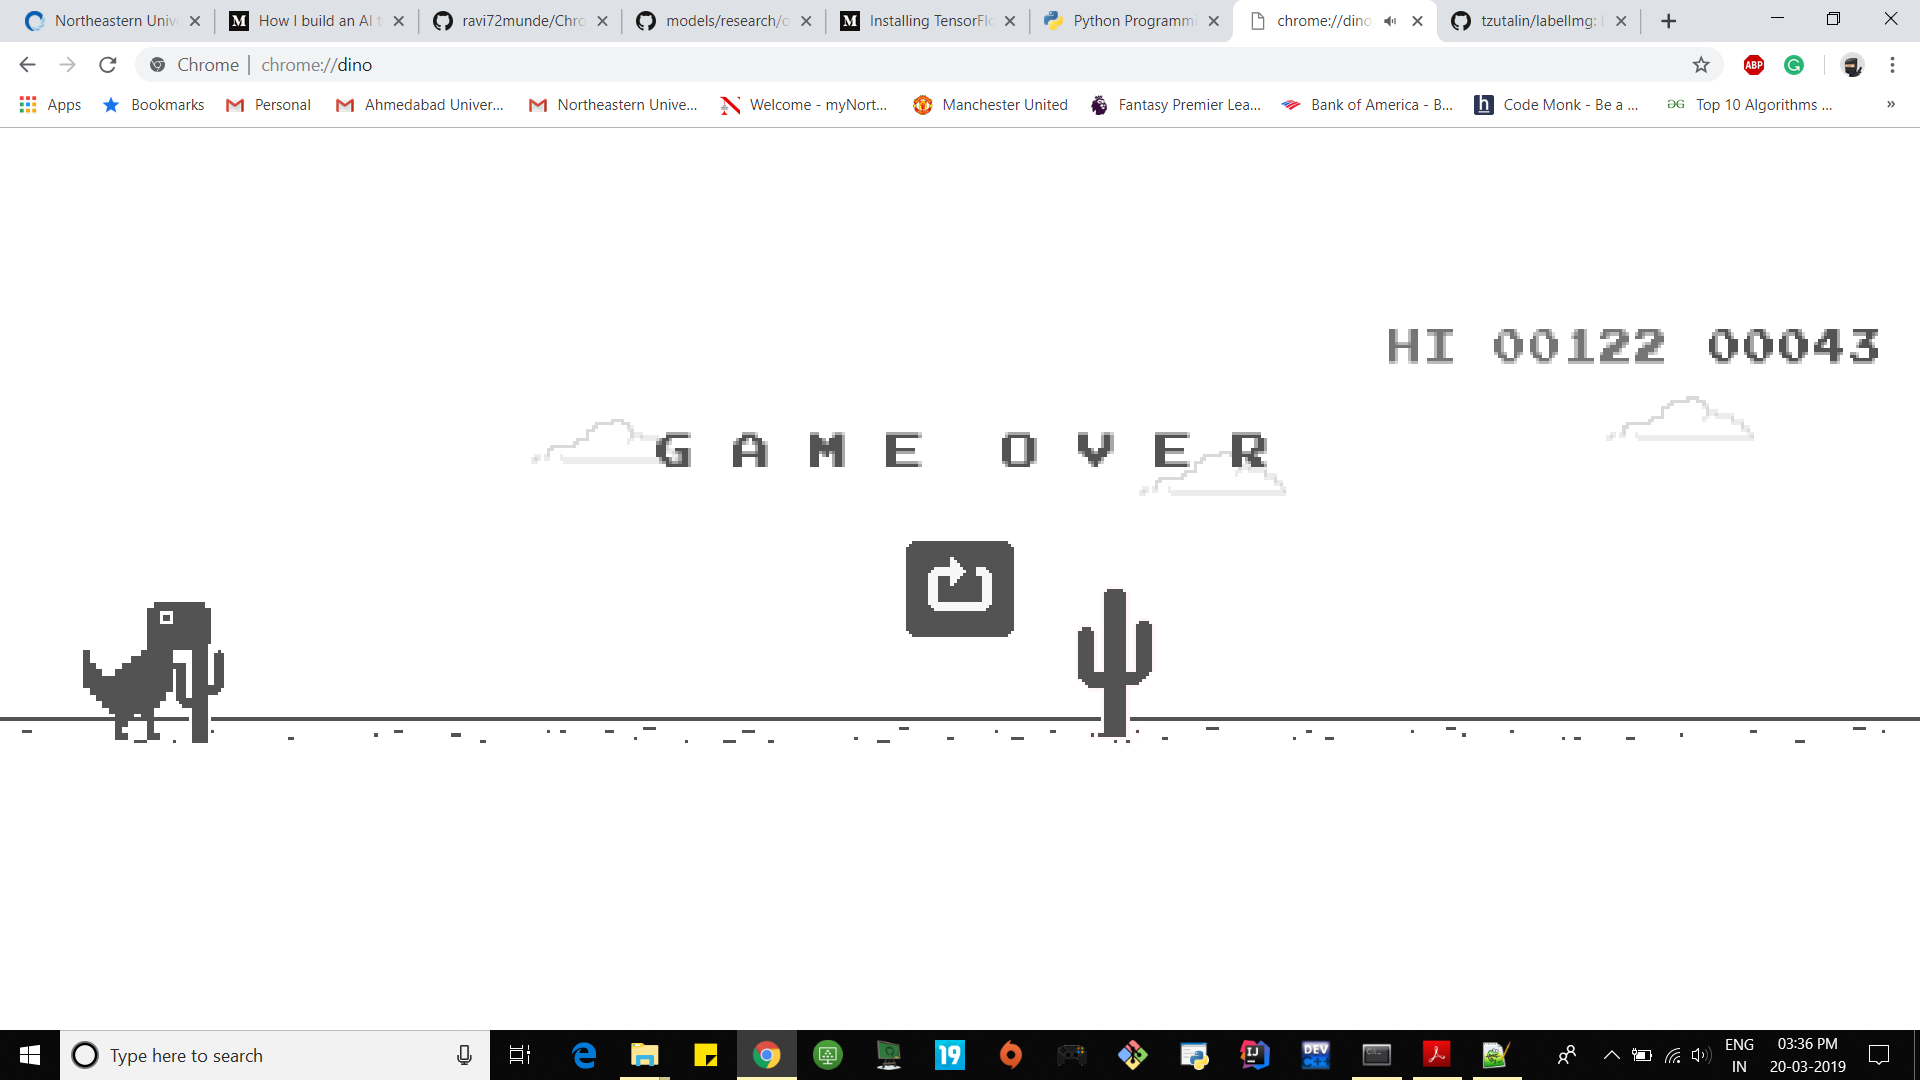cactus-1: (1076, 588, 1151, 737), (179, 605, 225, 742)
dino: (82, 604, 208, 744)
gameover: (906, 542, 1011, 638)
